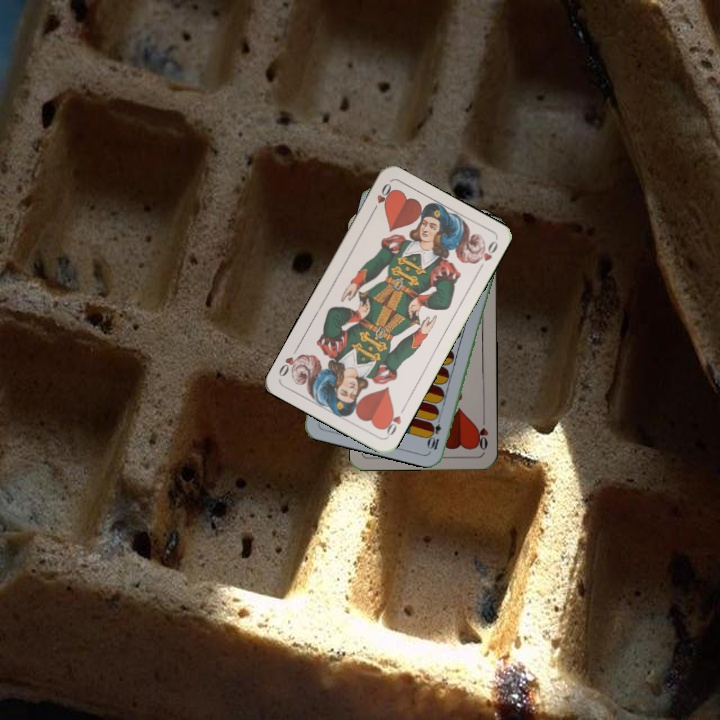E10: (425, 412, 444, 452)
HO: (379, 402, 408, 440), (368, 179, 395, 216), (473, 413, 491, 452)
